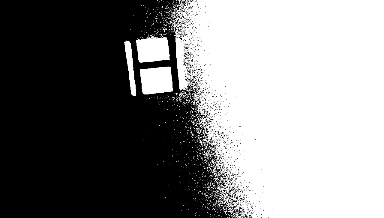H: (125, 35, 184, 95)
